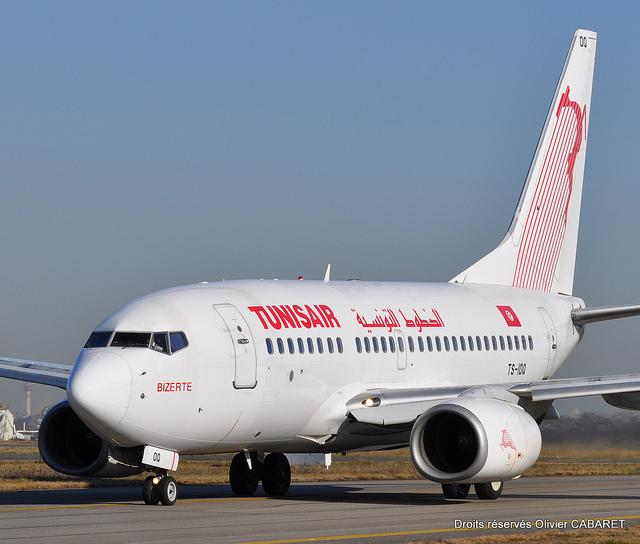airplane: (1, 26, 640, 507)
